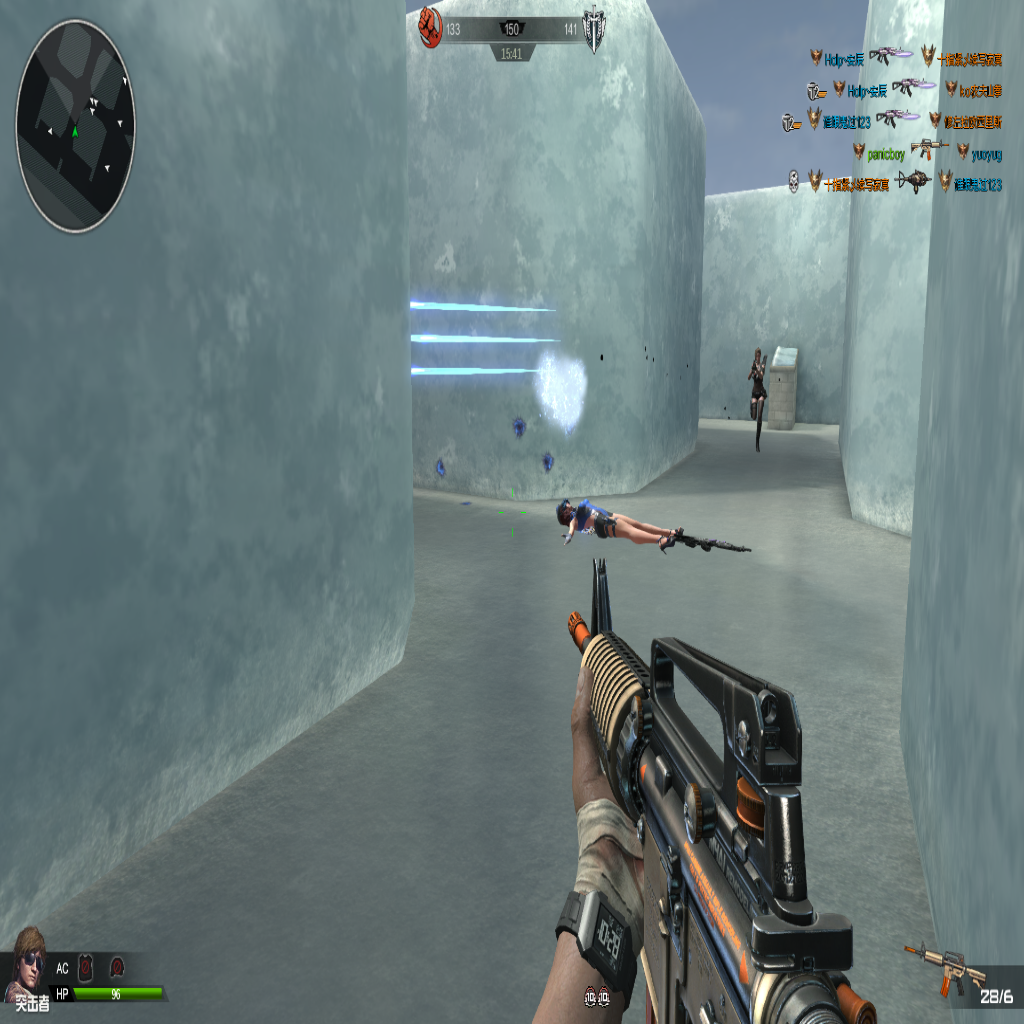ct: (749, 346, 769, 440)
